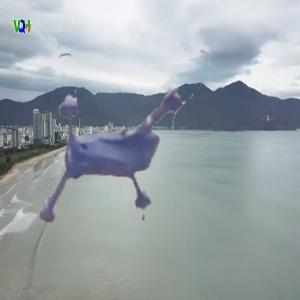drone: (21, 28, 225, 232)
